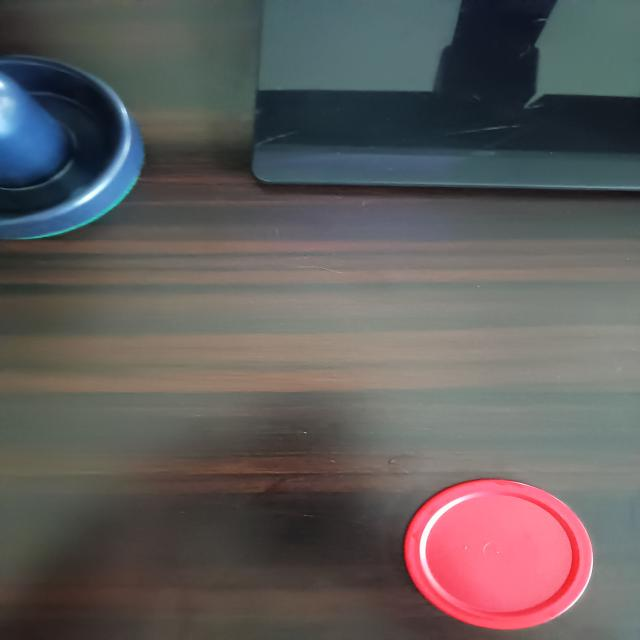chip: (404, 477, 596, 629)
